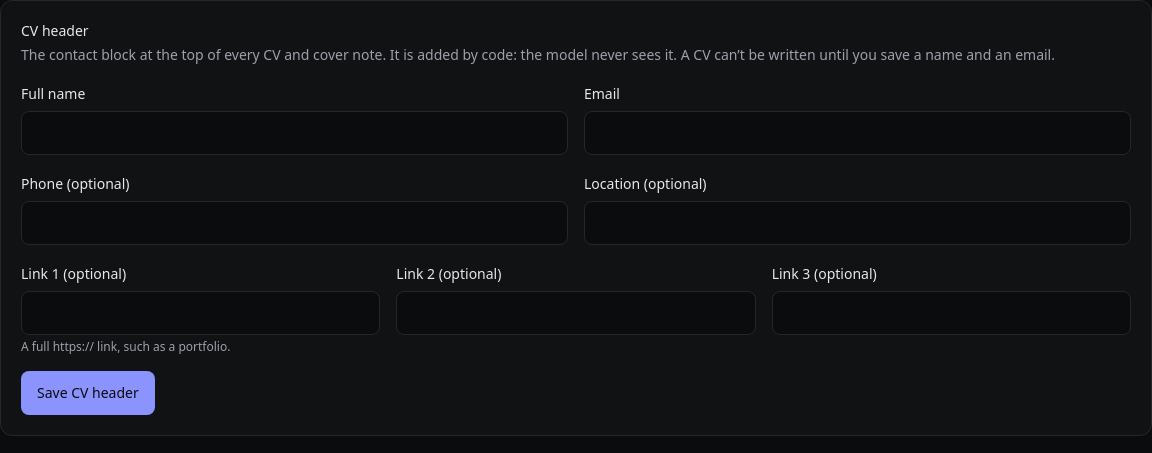
CvHeaderCard › keeps focus on Save and the same live region when the saved header arrives
In the field labelled "Full name": (294, 133) 21,111 -> 568,155, type "Alex Example"
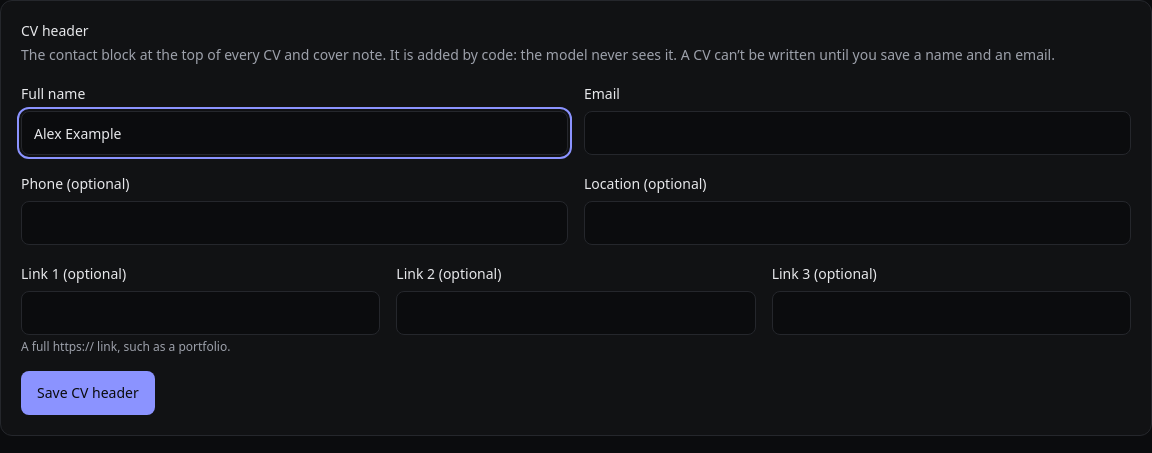
In the field labelled "Email": (858, 133) 584,111 -> 1131,155, type "alex@example.com"
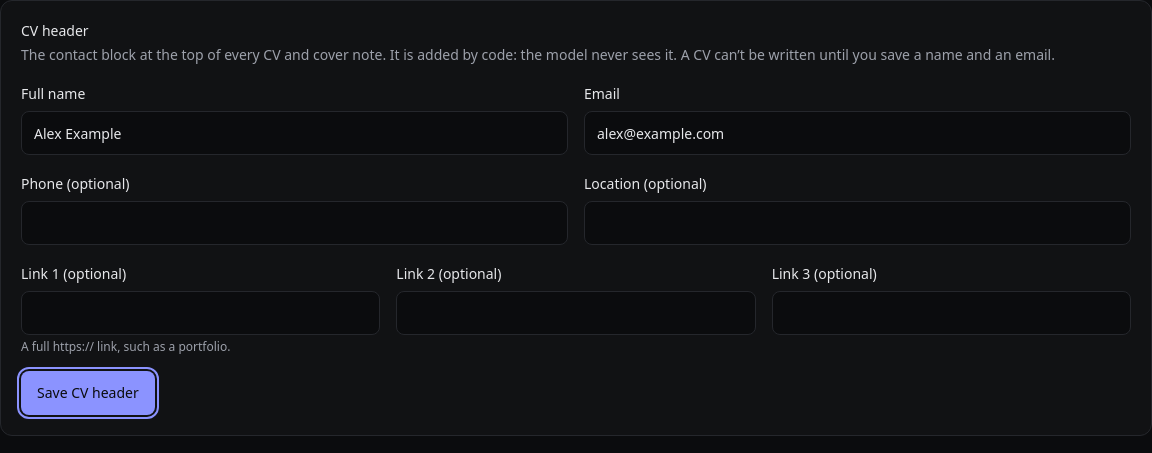
Press Enter
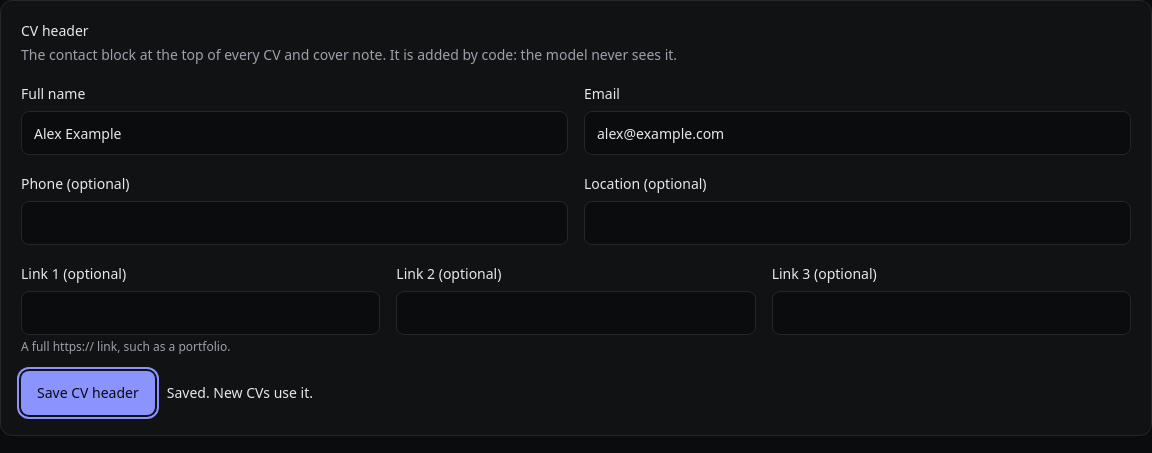
Check: the text "Saved. New CVs use it." is shown, box 167,383 -> 313,402
Check: the element showing "Saved. New CVs use it." is shown, box 167,383 -> 313,403
